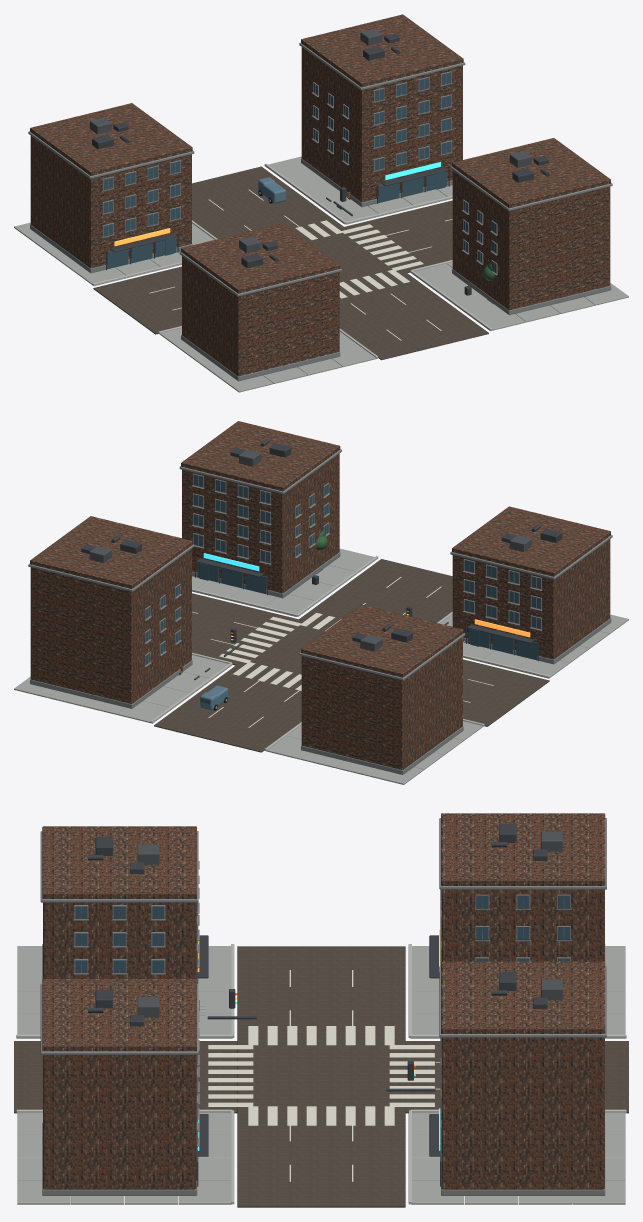
Rendered from night-intersection-c0.glb.
The picture shows the model from 3 angles, top to bottom: view 1: azimuth 30°, elevation 25°; view 2: azimuth 150°, elevation 25°; view 3: azimuth 270°, elevation 25°; orthographic projection. The views are drawn at different scales.
Visible parts, largest first — view 1: c0_building_se_shell_lod0, c0_building_ne_shell_lod0, c0_building_sw_shell_lod0, c0_building_nw_shell_lod0, c0_building_ne_parapet_lod0, c0_building_nw_parapet_lod0, c0_building_sw_parapet_lod0, c0_building_se_parapet_lod0, c0_road_ns_tile_00_lod0, c0_road_ns_tile_01_lod0, c0_road_ew_tile_00_lod0, c0_road_ns_tile_06_lod0 (+21 smaller); view 2: c0_building_ne_shell_lod0, c0_building_nw_shell_lod0, c0_building_se_shell_lod0, c0_building_sw_shell_lod0, c0_building_nw_parapet_lod0, c0_building_ne_parapet_lod0, c0_building_se_parapet_lod0, c0_building_sw_parapet_lod0, c0_road_ns_tile_07_lod0, c0_road_ew_tile_00_lod0, c0_road_ns_tile_01_lod0, c0_road_ns_tile_06_lod0 (+22 smaller); view 3: c0_building_ne_shell_lod0, c0_building_se_shell_lod0, c0_building_nw_parapet_lod0, c0_building_ne_parapet_lod0, c0_building_nw_shell_lod0, c0_building_sw_parapet_lod0, c0_building_se_parapet_lod0, c0_building_sw_shell_lod0, c0_road_ew_tile_07_lod0, c0_road_ew_tile_01_lod0, c0_road_ew_tile_00_lod0, c0_road_ew_tile_06_lod0 (+34 smaller).
Part boxes in pixels (x1=…): c0_building_se_shell_lod0: x1=452, y1=170, x2=610, y2=310; c0_building_ne_shell_lod0: x1=301, y1=47, x2=462, y2=202; c0_building_sw_shell_lod0: x1=182, y1=256, x2=339, y2=376; c0_building_nw_shell_lod0: x1=30, y1=136, x2=191, y2=268; c0_building_ne_parapet_lod0: x1=301, y1=14, x2=463, y2=87; c0_building_nw_parapet_lod0: x1=30, y1=103, x2=192, y2=175; c0_building_sw_parapet_lod0: x1=181, y1=223, x2=340, y2=293; c0_building_se_parapet_lod0: x1=452, y1=138, x2=610, y2=208; c0_road_ns_tile_00_lod0: x1=354, y1=312, x2=488, y2=360; c0_road_ns_tile_01_lod0: x1=339, y1=291, x2=460, y2=338; c0_road_ew_tile_00_lod0: x1=93, y1=276, x2=181, y2=334; c0_road_ns_tile_06_lod0: x1=192, y1=187, x2=317, y2=234; c0_building_ne_shell_lod0: x1=30, y1=549, x2=191, y2=703; c0_building_nw_shell_lod0: x1=301, y1=637, x2=462, y2=769; c0_building_se_shell_lod0: x1=182, y1=453, x2=339, y2=593; c0_building_sw_shell_lod0: x1=452, y1=539, x2=610, y2=659; c0_building_nw_parapet_lod0: x1=301, y1=604, x2=463, y2=677; c0_building_ne_parapet_lod0: x1=30, y1=516, x2=192, y2=588; c0_building_se_parapet_lod0: x1=181, y1=421, x2=340, y2=491; c0_building_sw_parapet_lod0: x1=452, y1=506, x2=610, y2=576; c0_road_ns_tile_07_lod0: x1=154, y1=704, x2=288, y2=752; c0_road_ew_tile_00_lod0: x1=463, y1=668, x2=549, y2=726; c0_road_ns_tile_01_lod0: x1=325, y1=579, x2=452, y2=622; c0_road_ns_tile_06_lod0: x1=182, y1=684, x2=301, y2=730; c0_building_ne_shell_lod0: x1=441, y1=1037, x2=604, y2=1189; c0_building_se_shell_lod0: x1=43, y1=1055, x2=196, y2=1189; c0_building_nw_parapet_lod0: x1=441, y1=813, x2=605, y2=885; c0_building_ne_parapet_lod0: x1=441, y1=961, x2=605, y2=1033; c0_building_nw_shell_lod0: x1=441, y1=889, x2=604, y2=961; c0_building_sw_parapet_lod0: x1=42, y1=826, x2=196, y2=898; c0_building_se_parapet_lod0: x1=42, y1=979, x2=196, y2=1051; c0_building_sw_shell_lod0: x1=43, y1=902, x2=196, y2=978; c0_road_ew_tile_07_lod0: x1=237, y1=1173, x2=405, y2=1207; c0_road_ew_tile_01_lod0: x1=237, y1=978, x2=405, y2=1011; c0_road_ew_tile_00_lod0: x1=237, y1=946, x2=405, y2=978; c0_road_ew_tile_06_lod0: x1=237, y1=1141, x2=405, y2=1173.
Size of the model in its own units: 64.02 by 21.01 by 64.02.
Materials: 21 (2 with a texture image).
